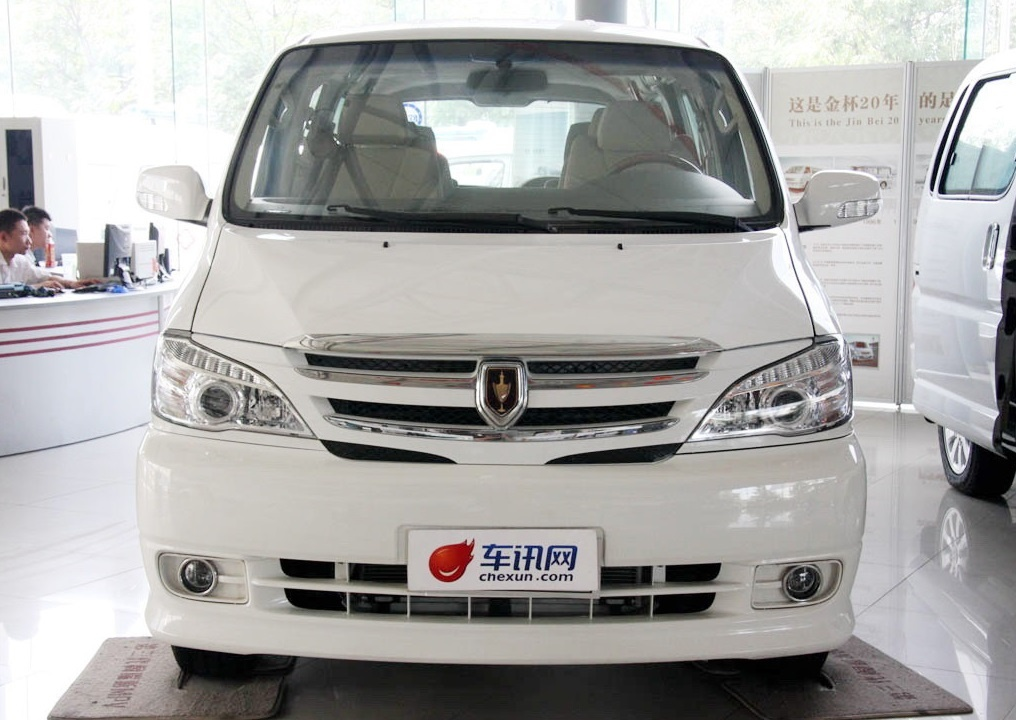minibus: (131, 35, 897, 683)
